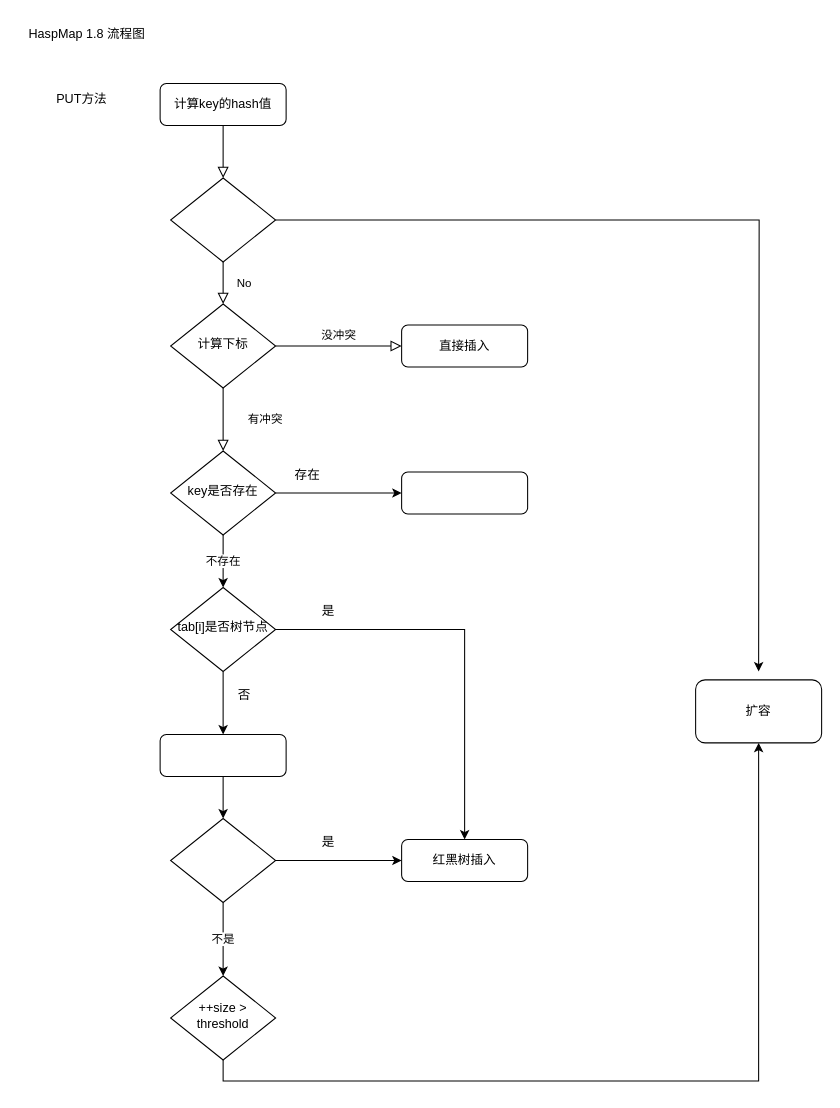
The diagram is 840 pixels wide and 1108 high, and some of its shapes have lost their labels. The shapes that lost their labels are listed below. From the top down, each one's centre as x and y in pixels, then its label:
[223,219]: 数组为空
[464,492]: 直接覆盖
[222,754]: 遍历插入
[223,859]: 长度是不是大于8
